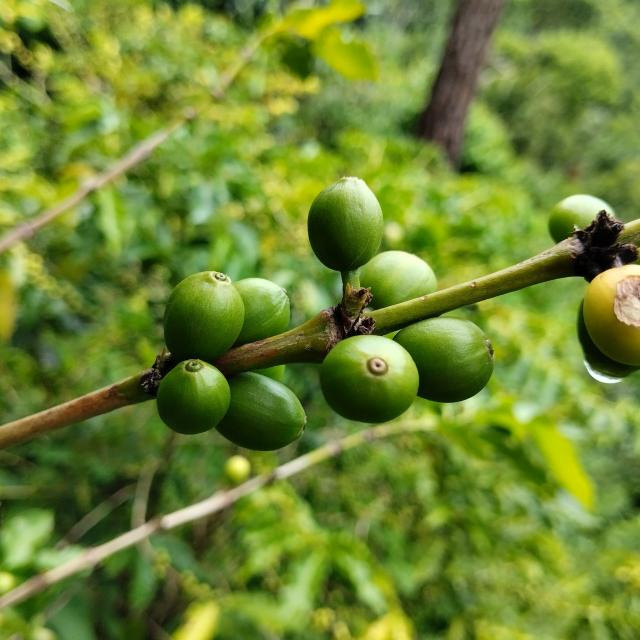green: (320, 335, 419, 424), (394, 317, 495, 403), (163, 271, 244, 362), (308, 177, 384, 273), (215, 372, 306, 451), (156, 360, 230, 435), (360, 251, 438, 310), (232, 278, 290, 347), (550, 194, 616, 243)
red: (584, 264, 640, 366)
